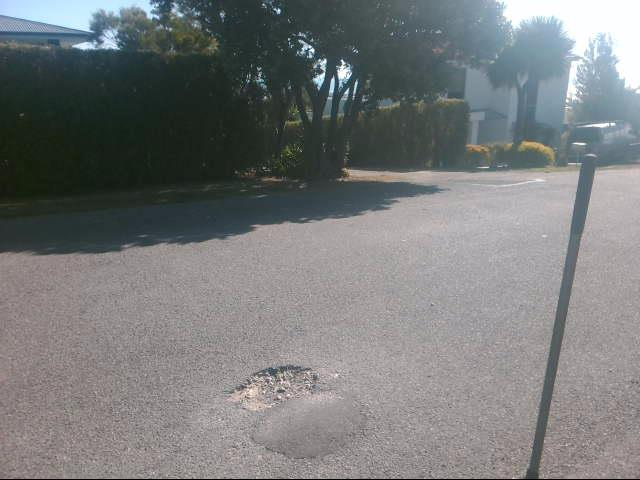pothole: (227, 364, 316, 408)
